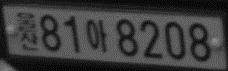0: (164, 19, 186, 60)
1: (63, 14, 84, 53)
2: (139, 19, 163, 59)
8: (188, 21, 211, 62), (39, 13, 62, 51), (116, 18, 138, 56)
아: (86, 18, 109, 53)
울산_V: (16, 11, 39, 51)
